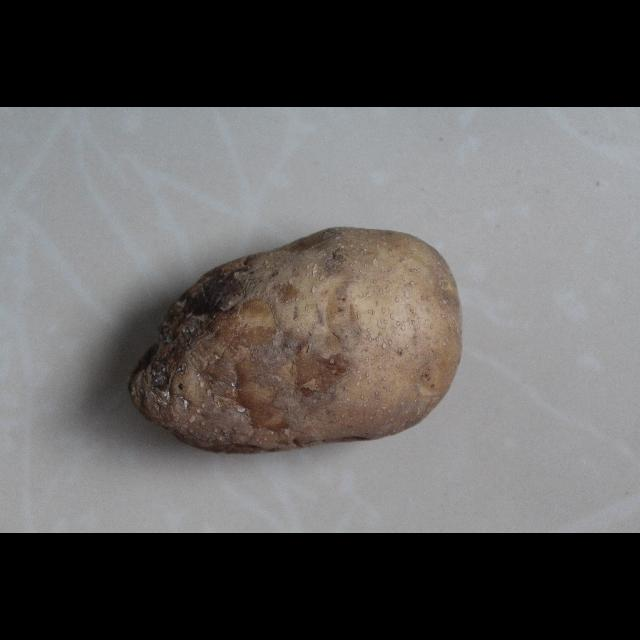Diseased-fungal potato: (108, 224, 472, 456)
